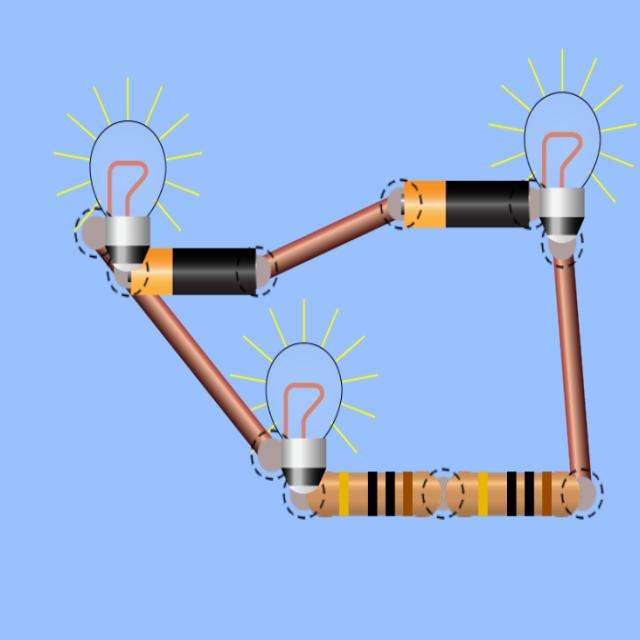Battery: (131, 248, 269, 296), (404, 181, 529, 226)
Light Bulb: (524, 92, 601, 258), (265, 342, 342, 494), (90, 119, 166, 272)
Resistor: (306, 471, 441, 518), (445, 473, 581, 517)
Wire: (134, 296, 271, 452), (265, 199, 394, 276), (554, 257, 591, 478)
